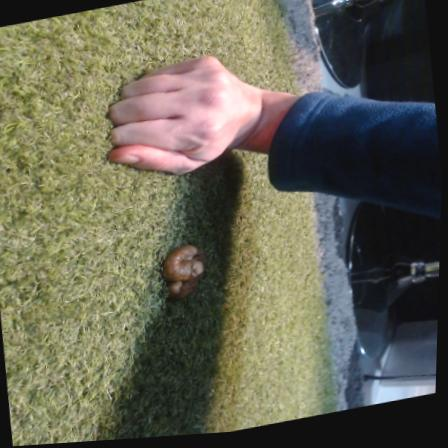dog-poop: (156, 240, 213, 303)
